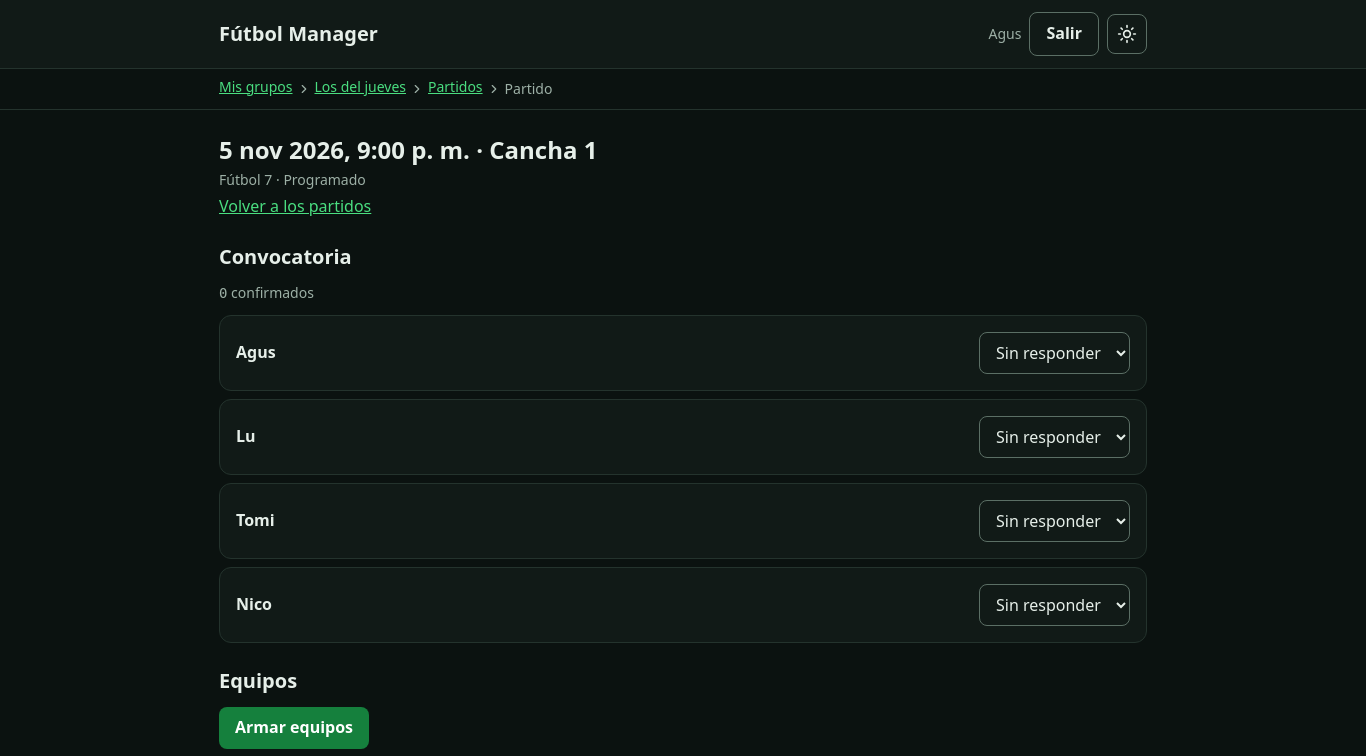
Scenario: LineupBuilder: Otra opción › cambiar de opción descarta los movimientos manuales y Armar equipos pide de nuevo y vuelve a la primera
Click the button "Armar equipos" at (294, 728), box [219,707,369,749]
(page scrolled)
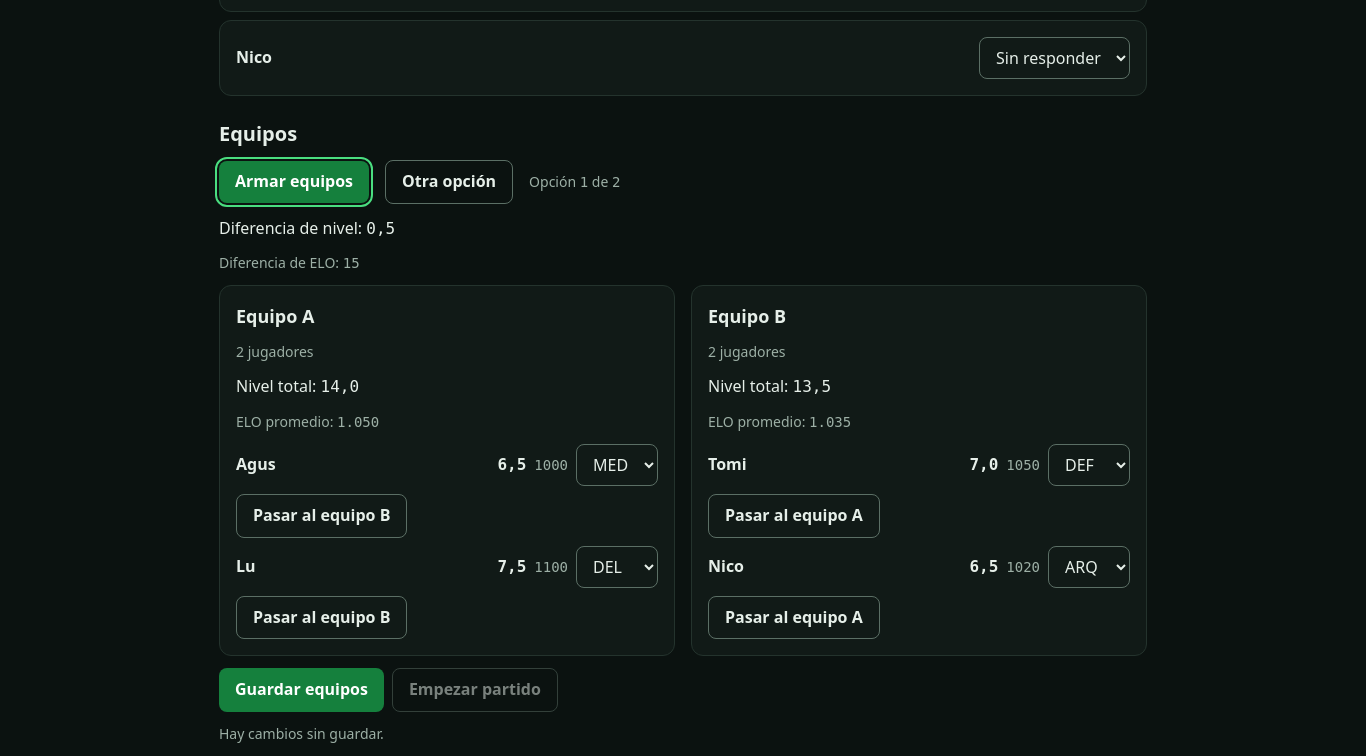
Click the button named "Pasar al equipo B (Agus)" at (322, 516), box [236,494,407,538]
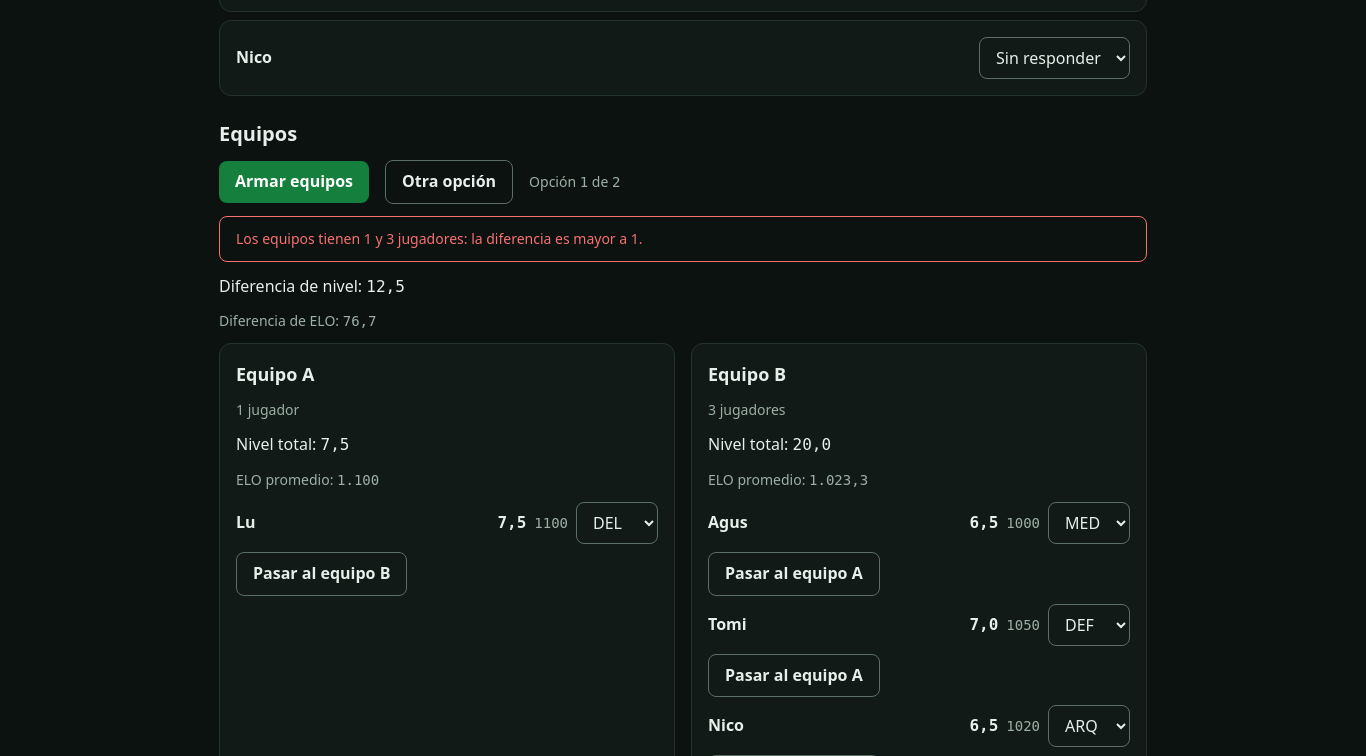
Expected: the message "Los equipos tienen 1 y 3 jugadores: la diferencia es mayor a 1." is shown, [219,216,1147,262]
Click the button "Otra opción" at (449, 182), box [385,160,513,204]
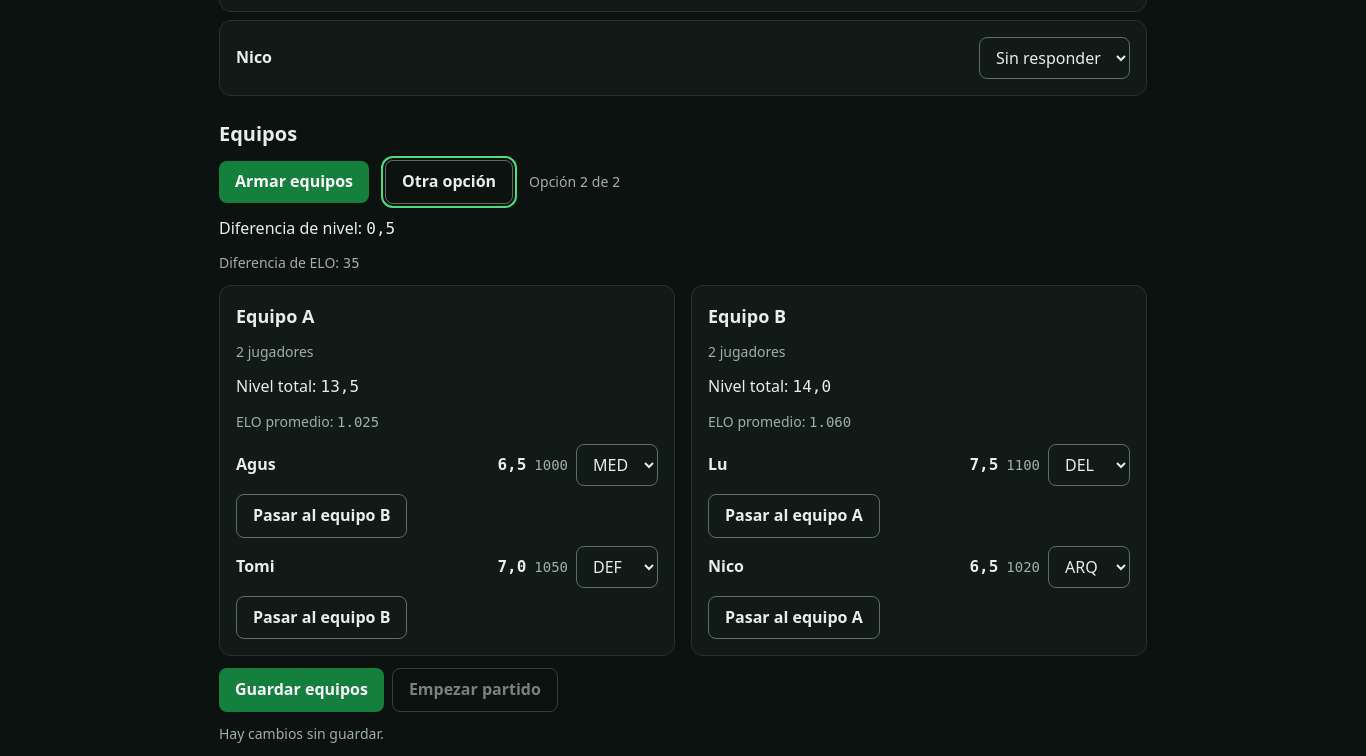
Expected: the dropdown named "Puesto de Agus" is shown, [576,444,658,486]
Expected: the dropdown named "Puesto de Tomi" is shown, [576,546,658,588]
Expected: the text "Opción 2 de 2" is shown, [529,172,620,192]
Click the button "Armar equipos" at (294, 182), box [219,161,369,203]
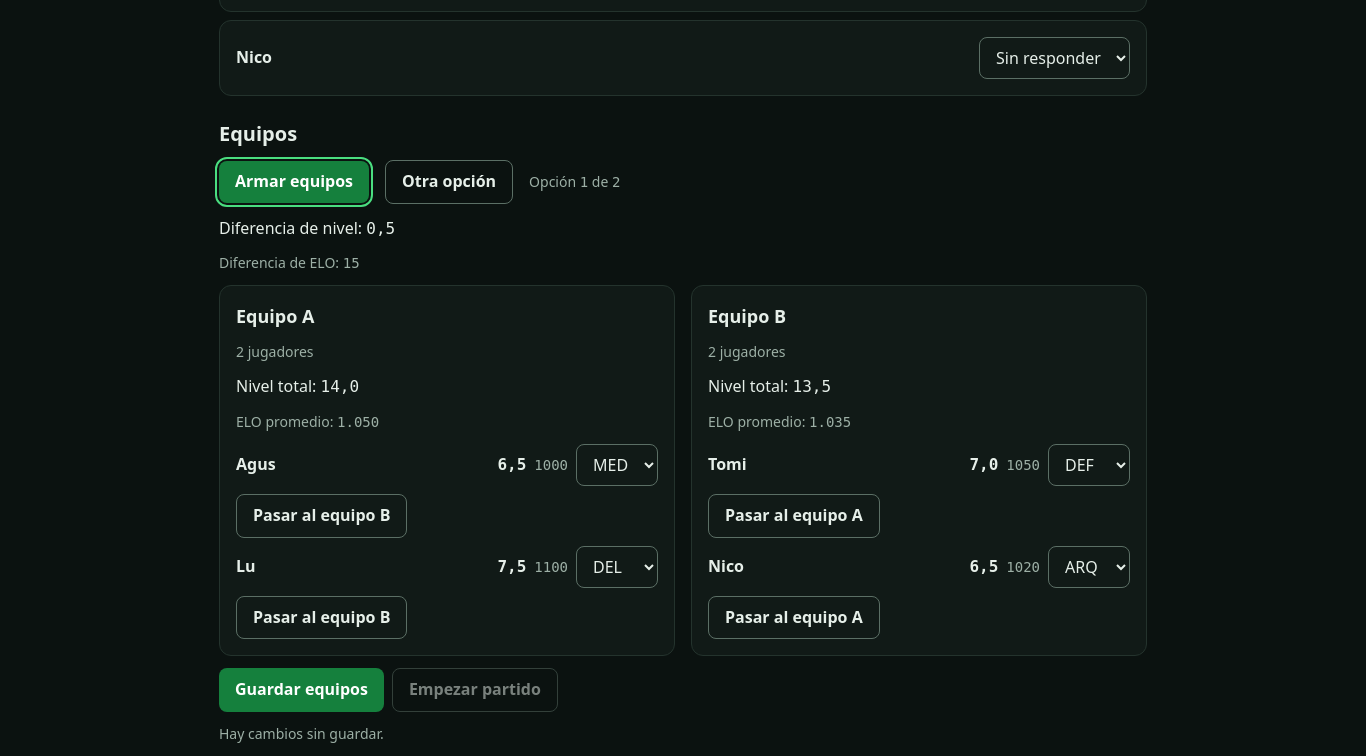
Expected: the text "Opción 1 de 2" is shown, [529,172,620,192]
Expected: the dropdown named "Puesto de Lu" is shown, [576,546,658,588]
